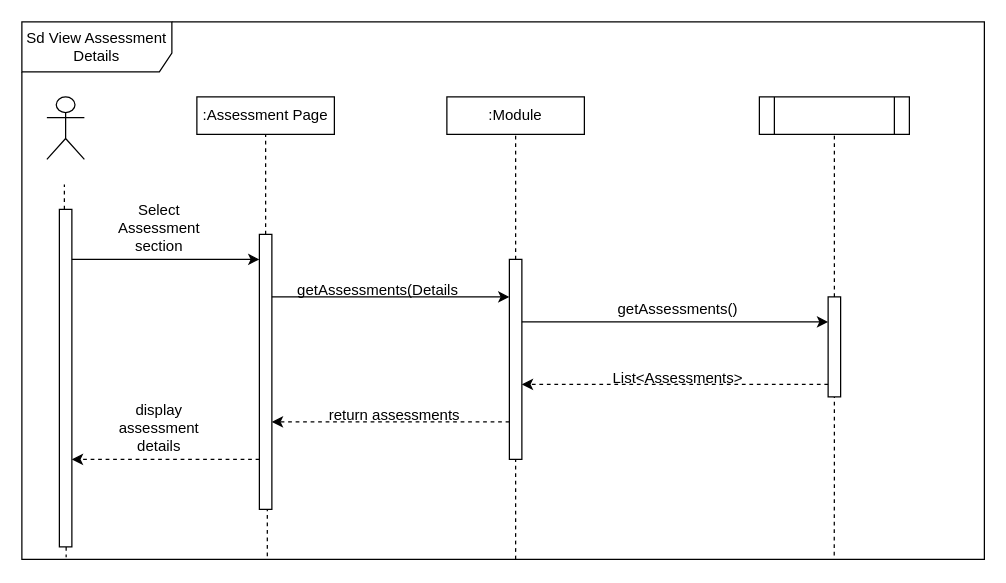
The diagram is 1006 pixels wide and 583 high, and some of its shapes have lost their labels. The shapes that lost their labels are listed below. From the top down, each one's box as (x1, y1, x2, y2) in pixels, then its label:
(46, 96, 84, 159): Lecturer
(758, 96, 909, 134): :Database
